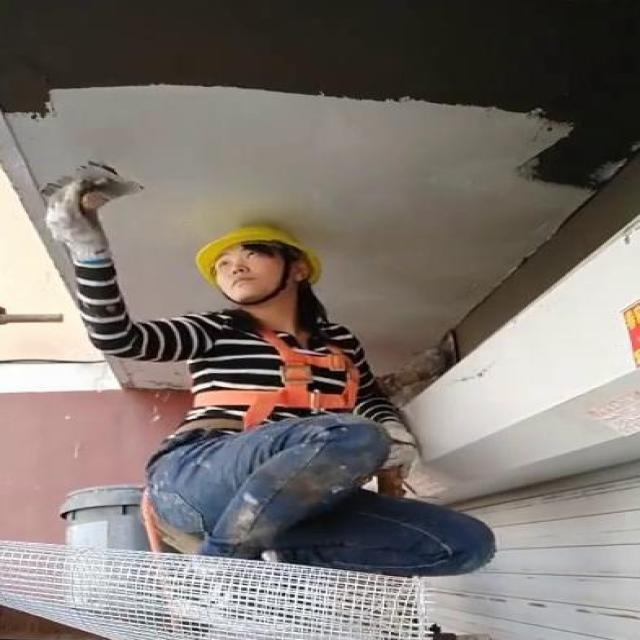Arnes_seguridad: (176, 301, 378, 425)
